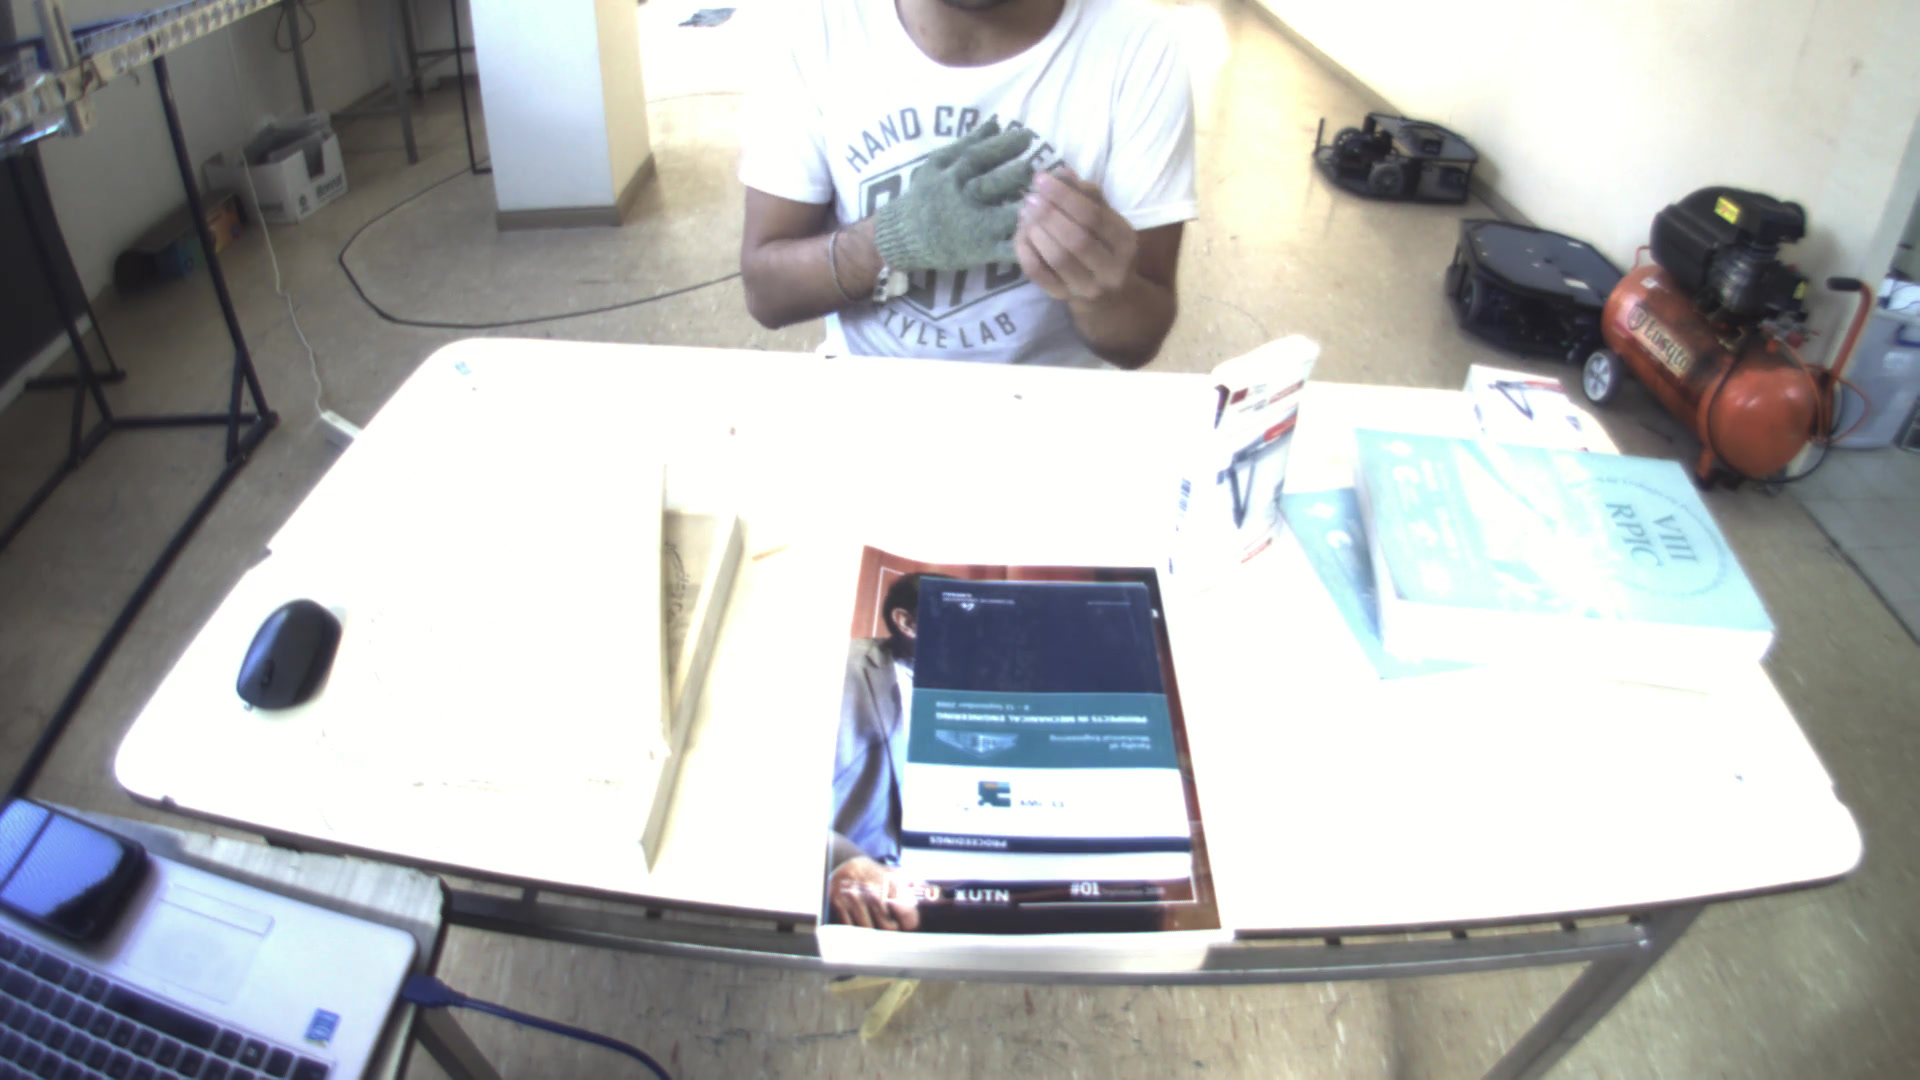hand: (861, 109, 1052, 286), (1009, 161, 1151, 320)
